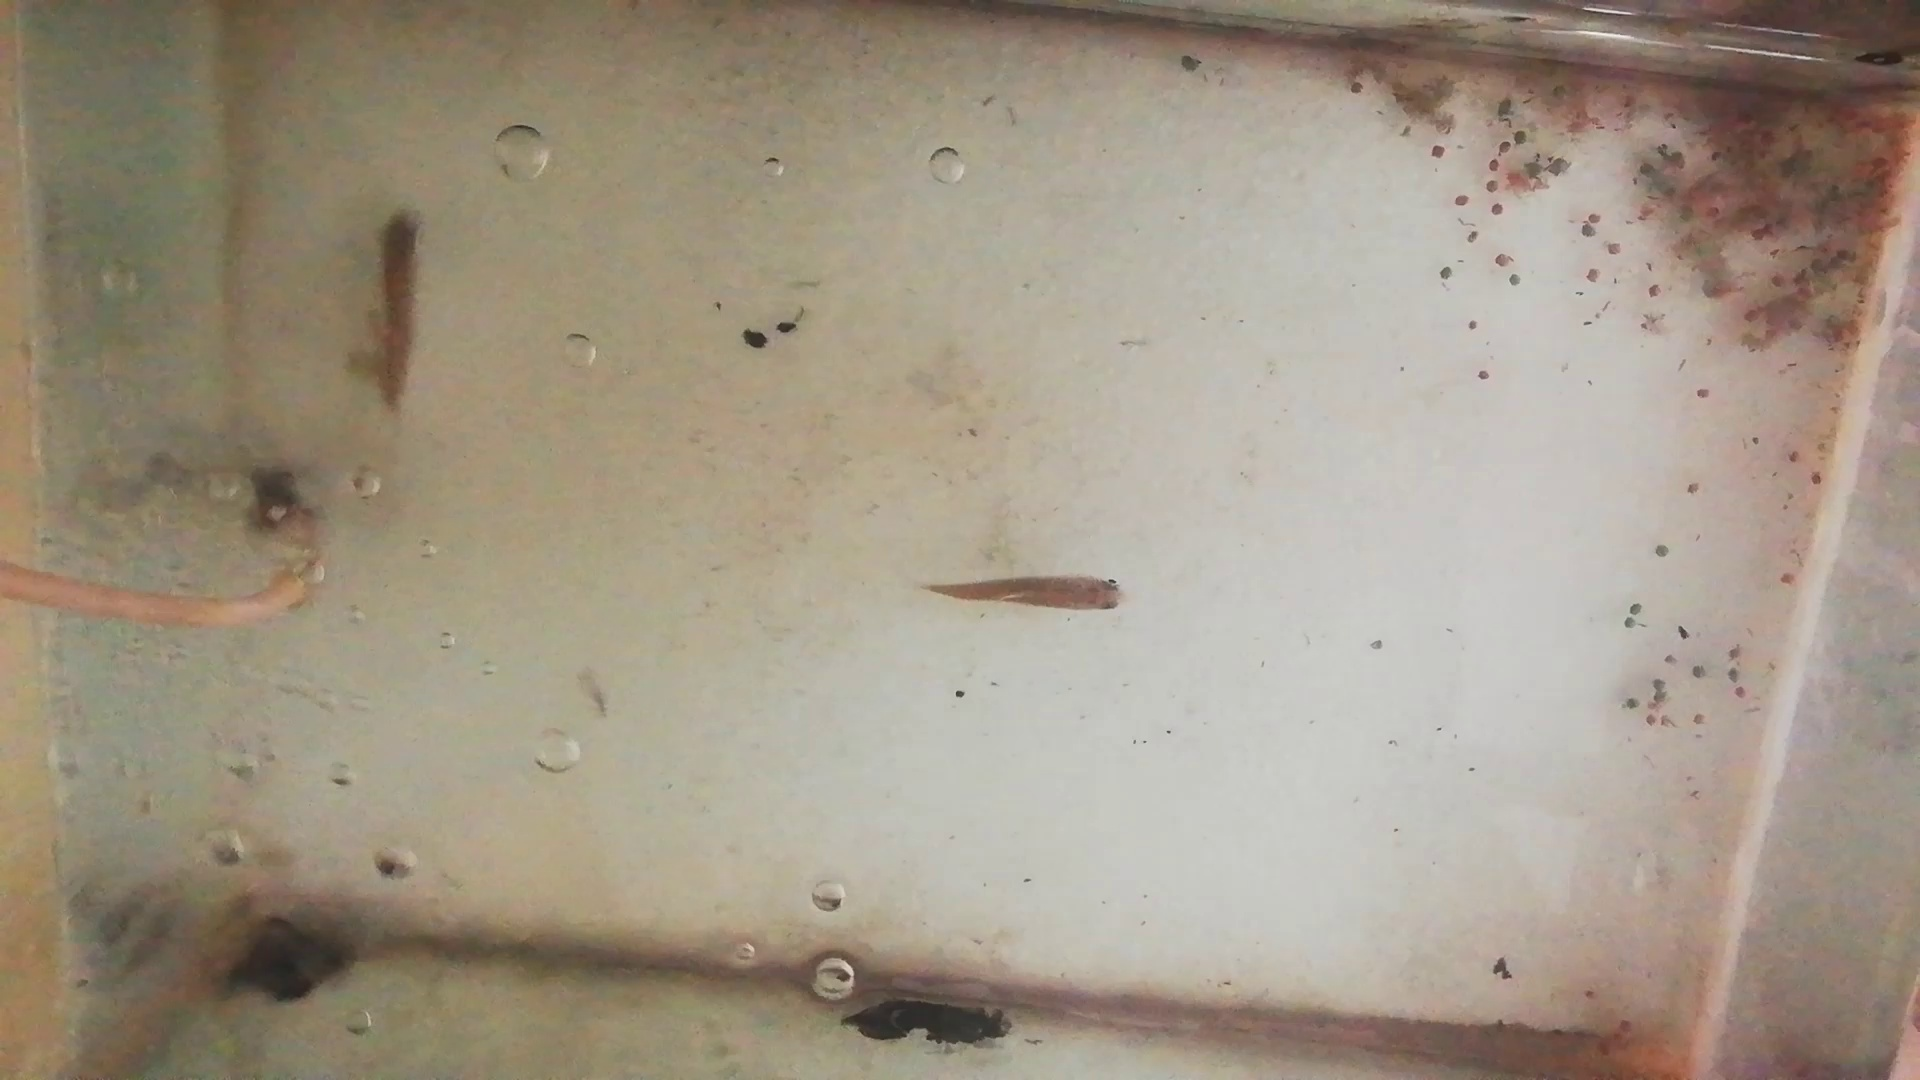fish: (922, 567, 1126, 618), (376, 212, 421, 417)
